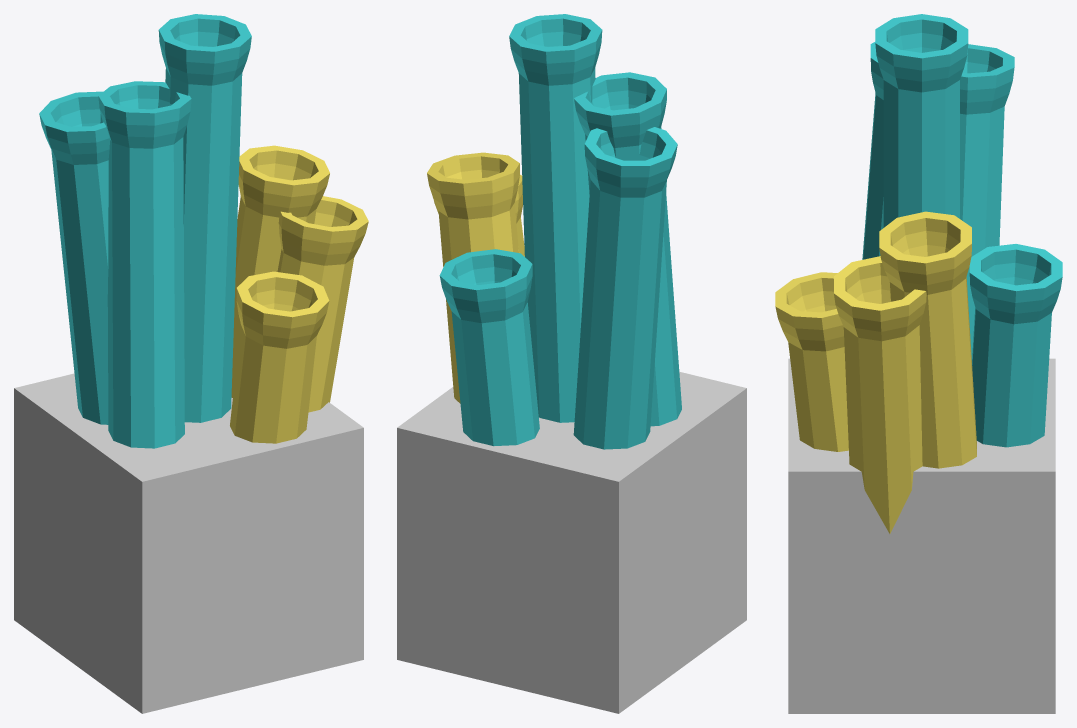
File: TubeCoral_A_LOD0_roblox.fbx
The picture shows the model from 3 angles, left to right: view 1: azimuth 30°, elevation 25°; view 2: azimuth 150°, elevation 25°; view 3: azimuth 270°, elevation 25°; orthographic projection. The views are drawn at different scales.
Visible parts, largest first — view 1: 1_Stud_Cube, TubeCoral_Teal_03, TubeCoral_Teal_01, TubeCoral_Teal_02, TubeCoral_Yellow_02, TubeCoral_Yellow_01, TubeCoral_Yellow_03; view 2: 1_Stud_Cube, TubeCoral_Teal_01, TubeCoral_Teal_02, TubeCoral_Teal_04, TubeCoral_Teal_03, TubeCoral_Yellow_01; view 3: 1_Stud_Cube, TubeCoral_Yellow_03, TubeCoral_Teal_01, TubeCoral_Yellow_01, TubeCoral_Teal_04, TubeCoral_Yellow_02, TubeCoral_Teal_02, TubeCoral_Teal_03.
Part boxes in pixels (bbox=[...]): 1_Stud_Cube: bbox=[14, 373, 363, 713]; TubeCoral_Teal_03: bbox=[98, 81, 191, 448]; TubeCoral_Teal_01: bbox=[158, 14, 251, 422]; TubeCoral_Teal_02: bbox=[39, 91, 130, 424]; TubeCoral_Yellow_02: bbox=[230, 271, 329, 443]; TubeCoral_Yellow_01: bbox=[231, 145, 329, 397]; TubeCoral_Yellow_03: bbox=[277, 196, 368, 412]; 1_Stud_Cube: bbox=[397, 371, 746, 713]; TubeCoral_Teal_01: bbox=[509, 14, 602, 422]; TubeCoral_Teal_02: bbox=[573, 127, 677, 449]; TubeCoral_Teal_04: bbox=[439, 249, 539, 446]; TubeCoral_Teal_03: bbox=[574, 72, 681, 426]; TubeCoral_Yellow_01: bbox=[427, 152, 519, 403]; 1_Stud_Cube: bbox=[788, 358, 1055, 713]; TubeCoral_Yellow_03: bbox=[834, 256, 926, 533]; TubeCoral_Teal_01: bbox=[875, 14, 968, 227]; TubeCoral_Yellow_01: bbox=[879, 211, 976, 468]; TubeCoral_Teal_04: bbox=[969, 244, 1062, 447]; TubeCoral_Yellow_02: bbox=[775, 272, 848, 451]; TubeCoral_Teal_02: bbox=[960, 44, 1014, 359]; TubeCoral_Teal_03: bbox=[862, 42, 960, 259].
Bounding box in the file's own units: 2.49 × 2.15 × 5.21.
